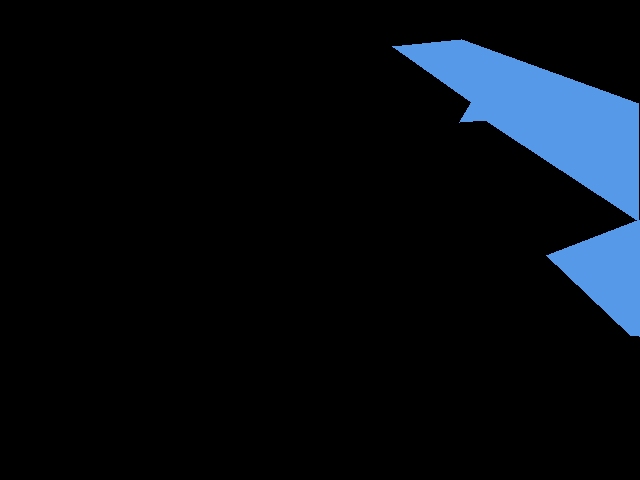Airplane: (392, 39, 640, 337)
